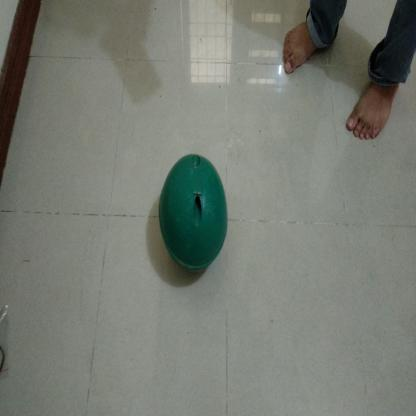green_buoy: (158, 153, 232, 282)
